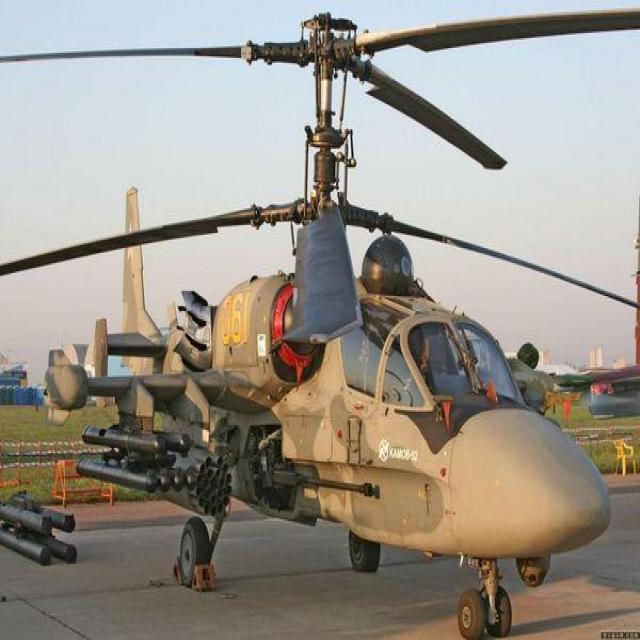MIL_HELO: (6, 17, 638, 630)
